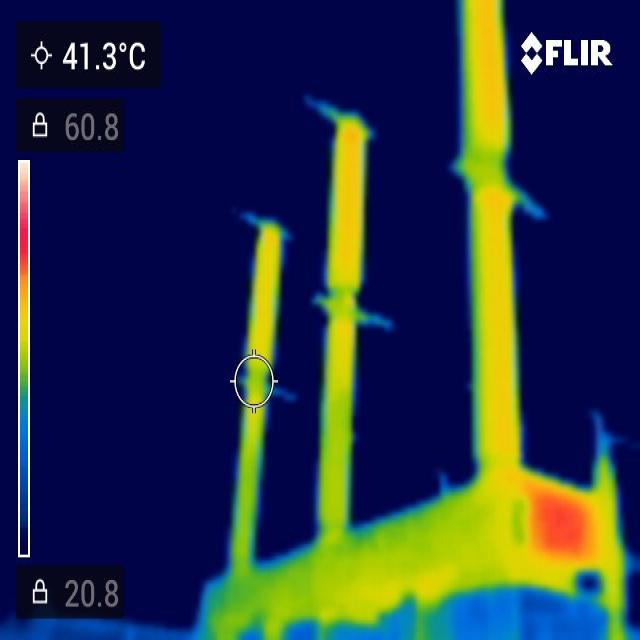Zona_Critica: (528, 488, 590, 561)
